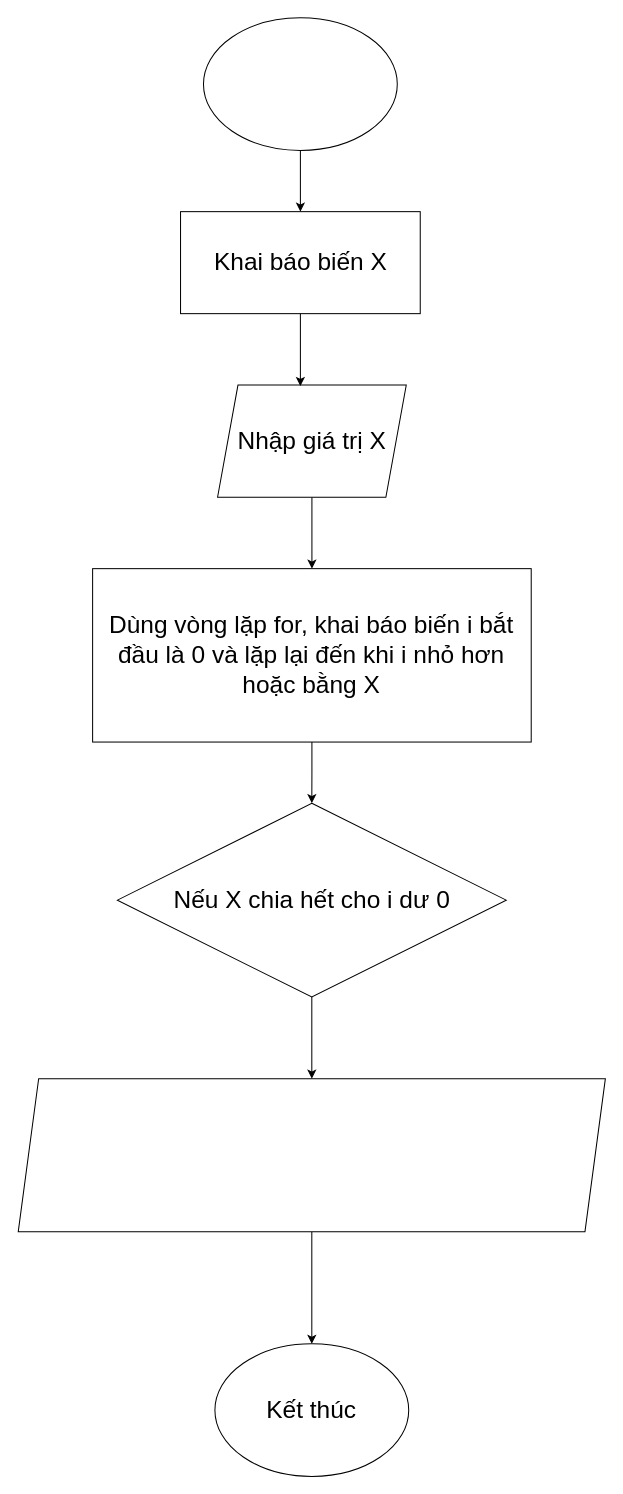
Image size: 623x1494. Some labels were removed from this diagram. Here are the shapes that lost their labels. From the top down, the box of each, then its label:
(202, 17, 397, 150): Bắt đầu
(17, 1078, 605, 1232): In ra tất cả các i thoả mãn ( là các ước của X )
